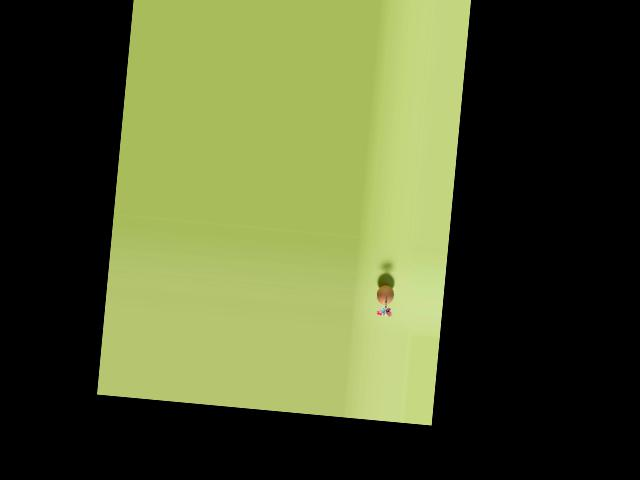egg: (376, 284, 394, 305)
